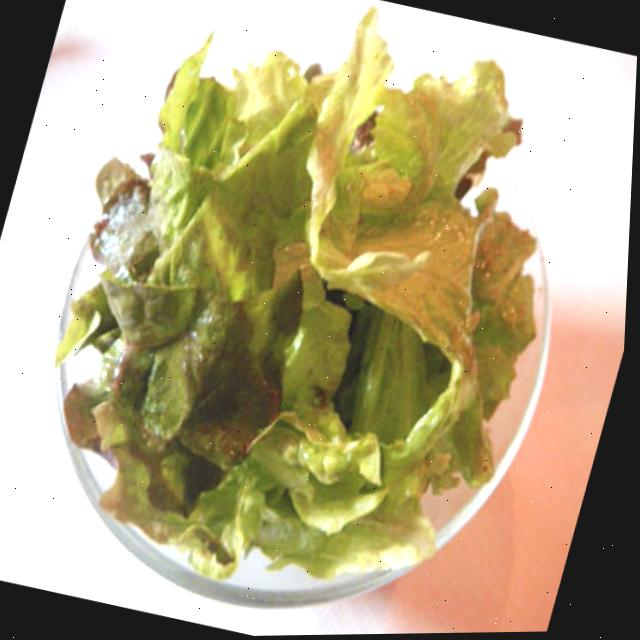蔬菜料理: (0, 9, 620, 640)
